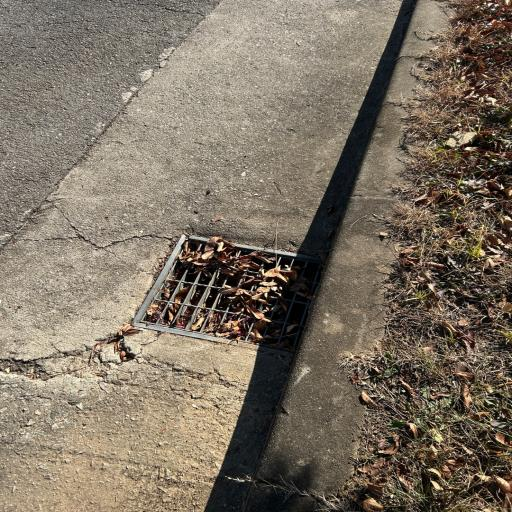debris: (189, 267, 296, 340), (218, 245, 270, 274), (181, 243, 215, 263), (168, 297, 189, 327), (151, 287, 169, 318), (166, 273, 175, 282), (178, 288, 187, 292), (241, 276, 245, 283), (201, 304, 205, 308), (249, 277, 254, 280)
drain: (147, 239, 320, 351)
